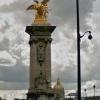Statue: (21, 3, 57, 40)
